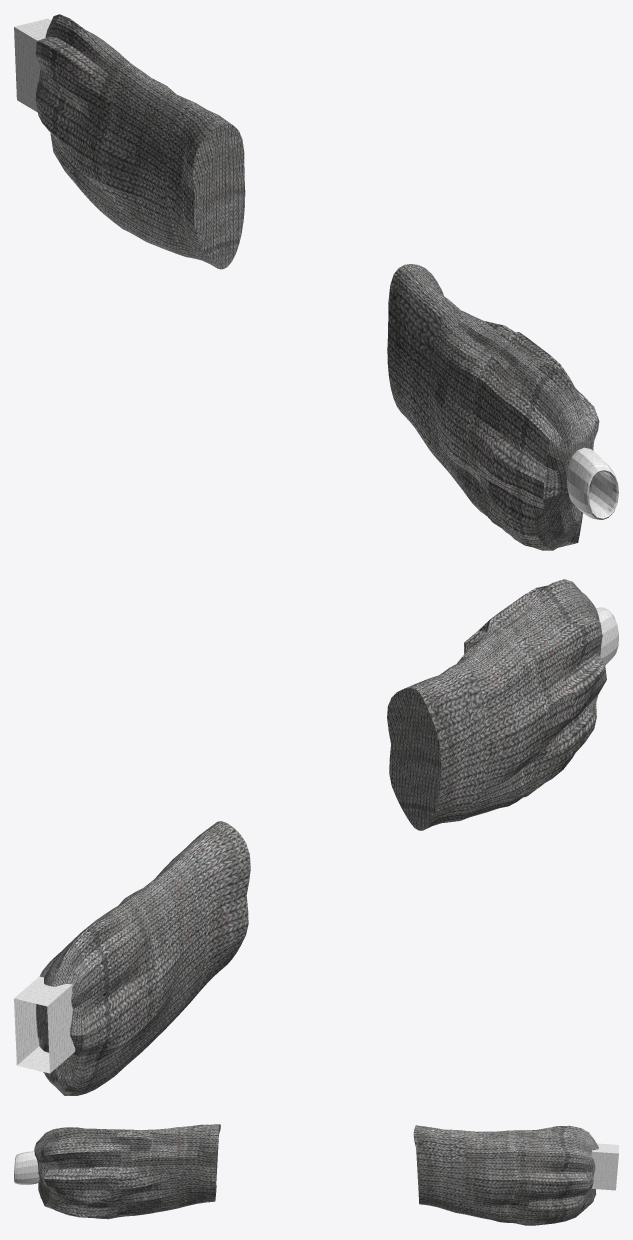
File: bishop-sleeve-long.glb
3 views of the same model, one above another, from view 1: azimuth 30°, elevation 25°; view 2: azimuth 150°, elevation 25°; view 3: azimuth 270°, elevation 25° (orthographic). The views are drawn at different scales.
Parts seen in each view (by area): view 1: Cylinder.001, Cylinder, Cube.006, Cube.003; view 2: Cylinder.001, Cylinder, Cube.003, Cube.006; view 3: Cylinder, Cylinder.001, Cube.003, Cube.006.
Boxes of the visible parts, left/top/right/bottom form: Cylinder.001: left=387, top=264, right=599, bottom=550; Cylinder: left=35, top=14, right=245, bottom=269; Cube.006: left=567, top=447, right=618, bottom=519; Cube.003: left=14, top=18, right=51, bottom=112; Cylinder.001: left=387, top=579, right=606, bottom=830; Cylinder: left=36, top=821, right=250, bottom=1095; Cube.003: left=14, top=976, right=75, bottom=1073; Cube.006: left=596, top=607, right=618, bottom=664; Cylinder: left=413, top=1125, right=598, bottom=1225; Cylinder.001: left=34, top=1124, right=220, bottom=1219; Cube.003: left=591, top=1143, right=618, bottom=1190; Cube.006: left=14, top=1151, right=39, bottom=1184.
Bounding box in the file's own units: 0.3872 × 0.7838 × 4.44.
2 materials, 2 textured.
